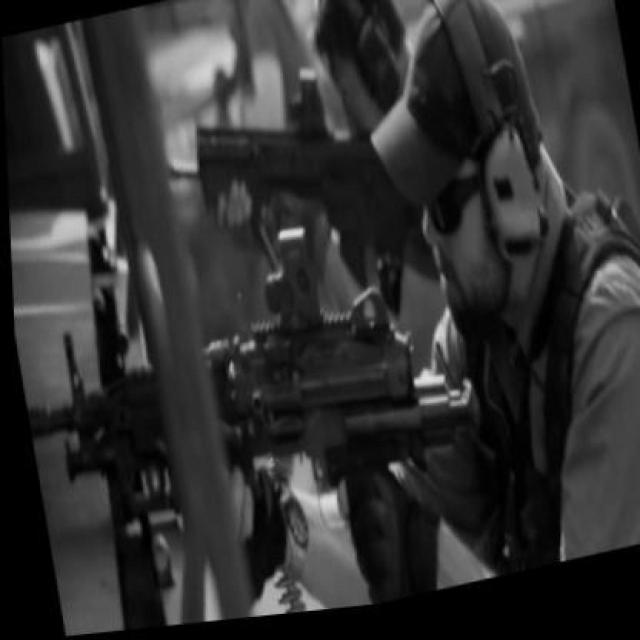weapon: (17, 224, 494, 635), (156, 70, 429, 310)
